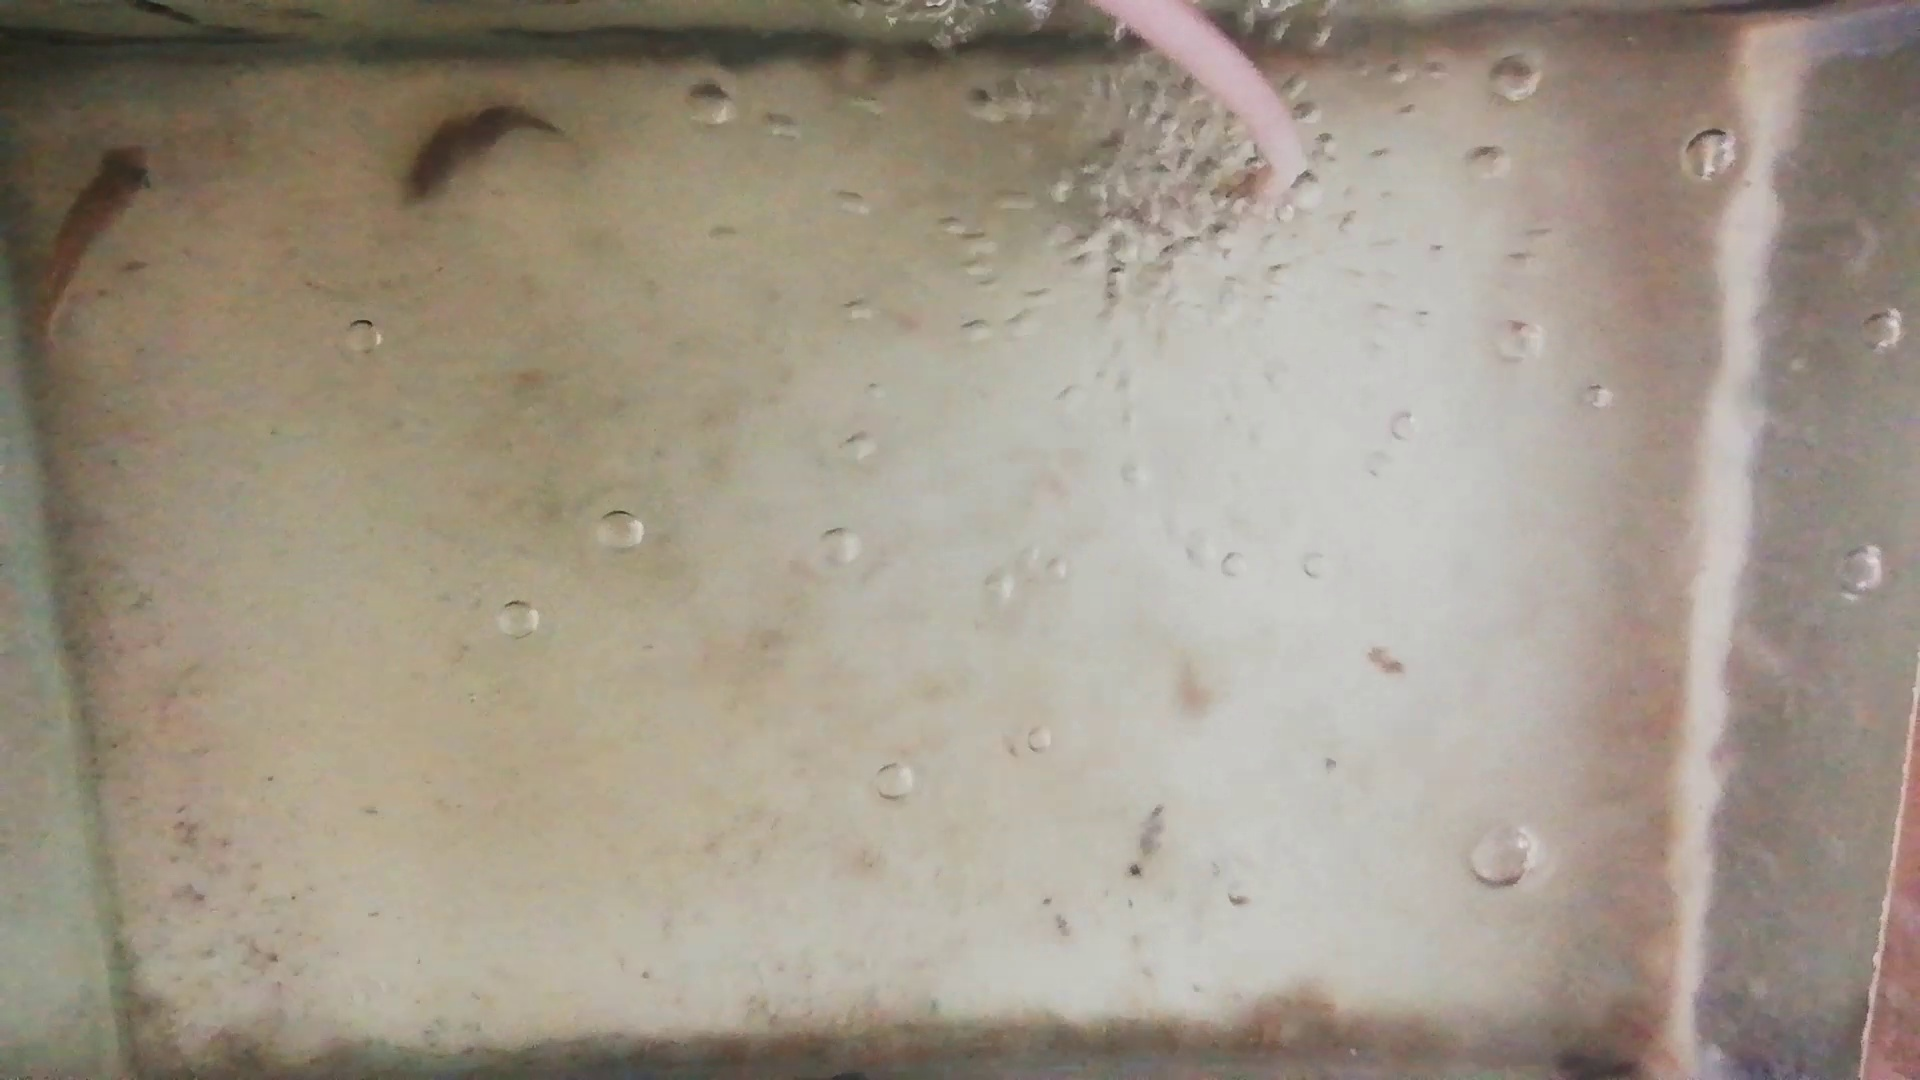fish: (32, 145, 157, 334), (398, 103, 560, 198)
